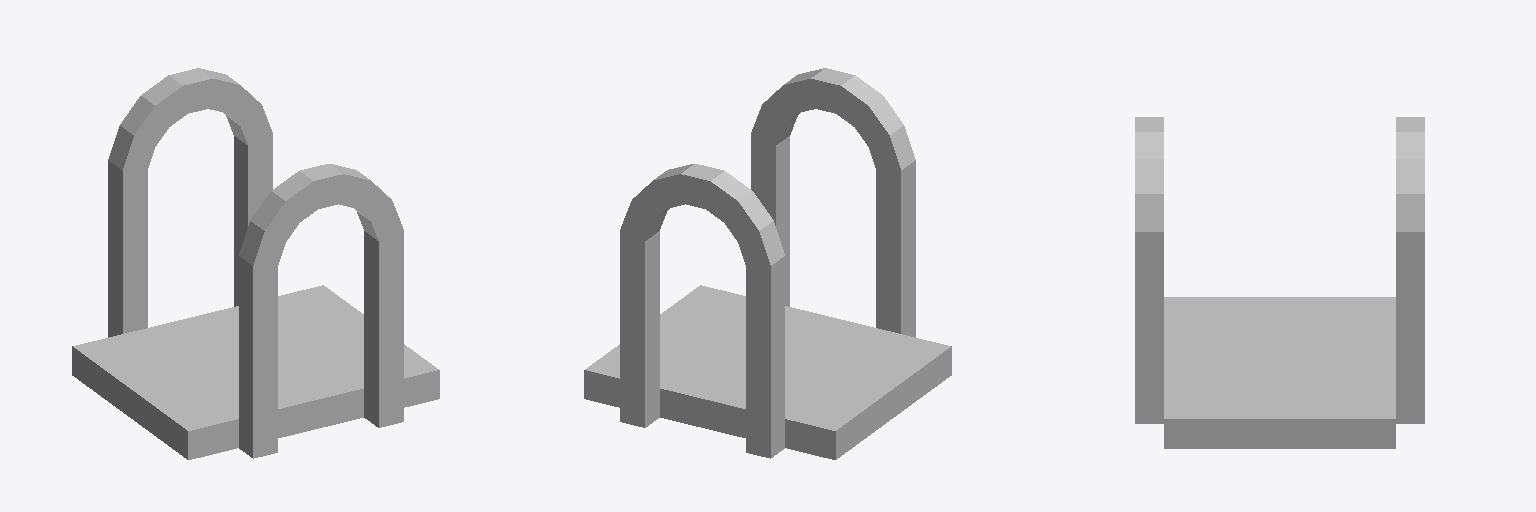
The model's file is room.obj.
The picture shows the model from 3 angles: view 1: azimuth 30°, elevation 25°; view 2: azimuth 150°, elevation 25°; view 3: azimuth 270°, elevation 25°; orthographic projection.
Visible parts, largest first — view 1: entity0_brush0, entity0_brush21, entity0_brush22, entity0_brush11, entity0_brush1, entity0_brush10, entity0_brush20, entity0_brush19, entity0_brush9, entity0_brush3, entity0_brush17, entity0_brush18 (+5 smaller); view 2: entity0_brush0, entity0_brush1, entity0_brush11, entity0_brush22, entity0_brush21, entity0_brush20, entity0_brush10, entity0_brush3, entity0_brush17, entity0_brush19, entity0_brush9, entity0_brush4 (+5 smaller); view 3: entity0_brush0, entity0_brush1, entity0_brush21, entity0_brush17, entity0_brush9, entity0_brush16, entity0_brush2.
Boxes of the visible parts, x1=… form: entity0_brush0: x1=72, y1=285, x2=439, y2=459; entity0_brush21: x1=364, y1=243, x2=403, y2=427; entity0_brush22: x1=239, y1=274, x2=277, y2=458; entity0_brush11: x1=108, y1=178, x2=147, y2=337; entity0_brush1: x1=234, y1=147, x2=272, y2=306; entity0_brush10: x1=108, y1=106, x2=147, y2=187; entity0_brush20: x1=239, y1=202, x2=277, y2=283; entity0_brush19: x1=264, y1=178, x2=303, y2=264; entity0_brush9: x1=234, y1=92, x2=272, y2=156; entity0_brush3: x1=134, y1=83, x2=172, y2=167; entity0_brush17: x1=364, y1=188, x2=403, y2=252; entity0_brush18: x1=286, y1=166, x2=332, y2=241; entity0_brush0: x1=584, y1=285, x2=951, y2=459; entity0_brush1: x1=620, y1=243, x2=659, y2=427; entity0_brush11: x1=746, y1=274, x2=784, y2=458; entity0_brush22: x1=876, y1=178, x2=915, y2=337; entity0_brush21: x1=751, y1=147, x2=789, y2=306; entity0_brush20: x1=876, y1=106, x2=915, y2=187; entity0_brush10: x1=746, y1=202, x2=784, y2=283; entity0_brush3: x1=720, y1=178, x2=759, y2=264; entity0_brush17: x1=751, y1=92, x2=789, y2=156; entity0_brush19: x1=851, y1=83, x2=889, y2=167; entity0_brush9: x1=620, y1=188, x2=659, y2=252; entity0_brush4: x1=691, y1=166, x2=737, y2=241; entity0_brush0: x1=1164, y1=297, x2=1395, y2=448; entity0_brush1: x1=1396, y1=249, x2=1424, y2=423; entity0_brush21: x1=1135, y1=249, x2=1163, y2=423; entity0_brush17: x1=1135, y1=171, x2=1163, y2=248; entity0_brush9: x1=1396, y1=171, x2=1424, y2=248; entity0_brush16: x1=1135, y1=142, x2=1163, y2=170; entity0_brush2: x1=1396, y1=142, x2=1424, y2=170.
Size of the model in its own units: 44 by 44 by 44.